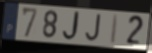2: (124, 14, 146, 49)
7: (22, 7, 40, 39)
8: (42, 10, 58, 40)
I: (109, 14, 120, 47)
J: (61, 10, 83, 43), (84, 14, 102, 43)
